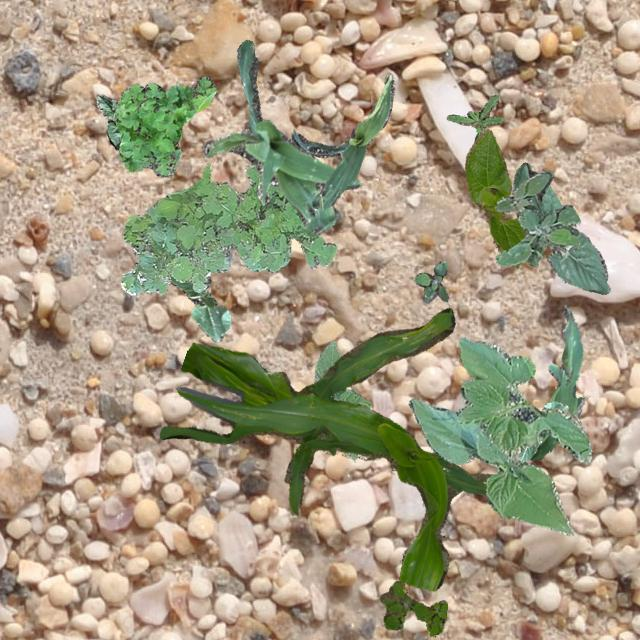crop: (158, 308, 491, 590), (408, 336, 590, 534), (200, 39, 358, 232), (291, 74, 394, 208), (513, 162, 609, 294), (528, 304, 584, 459), (464, 128, 524, 252), (312, 340, 370, 460), (168, 276, 230, 340), (518, 401, 568, 462), (96, 92, 120, 148)
weed: (120, 162, 336, 294), (114, 76, 214, 176), (494, 168, 580, 266), (379, 580, 446, 636), (446, 94, 502, 140), (413, 260, 448, 302)
